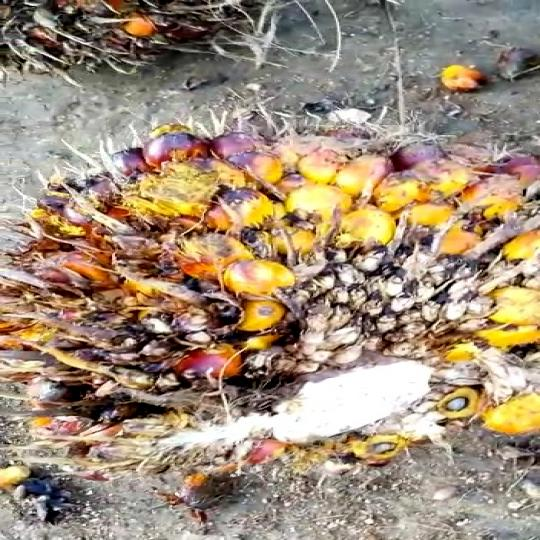masak: (0, 120, 540, 483)
